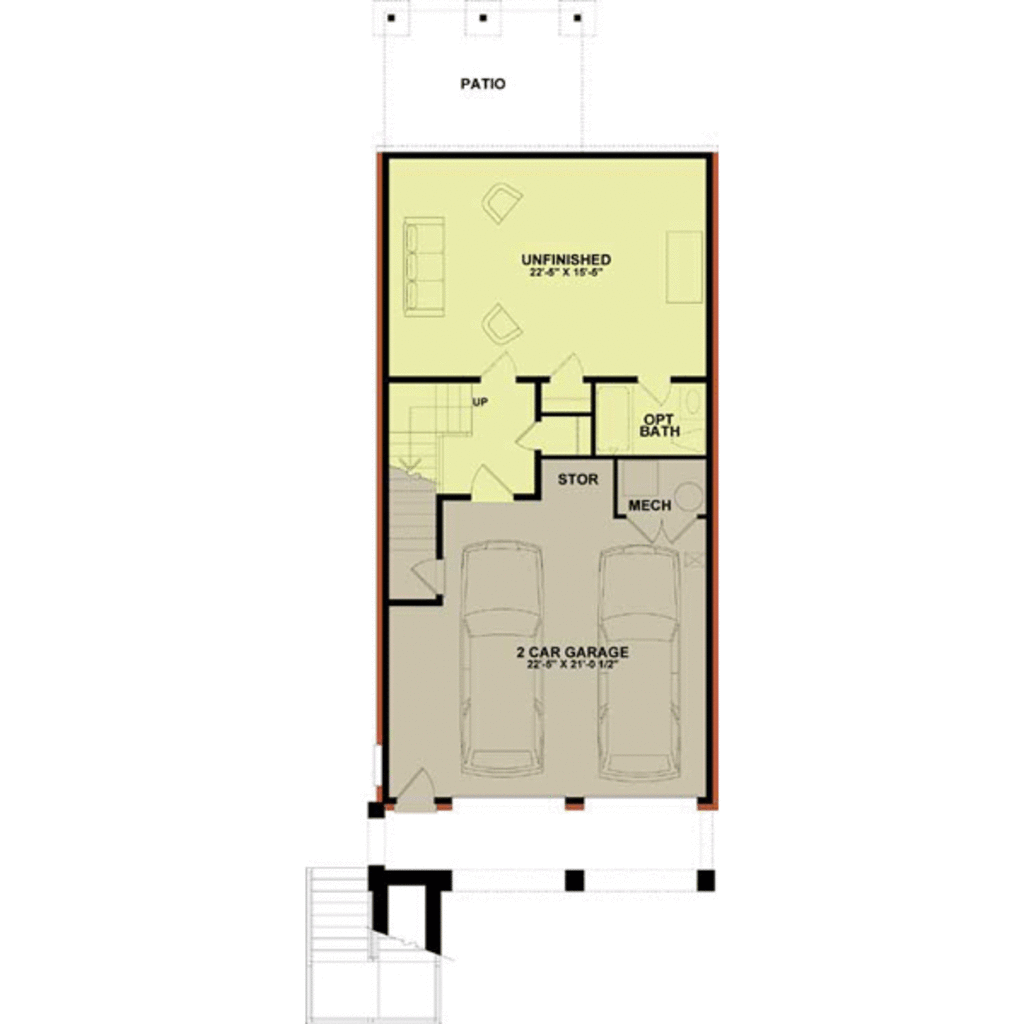door: (635, 514, 696, 546), (465, 463, 510, 503)
large_sofa: (400, 218, 446, 313)
stairs: (385, 380, 473, 619), (303, 869, 386, 1020)
